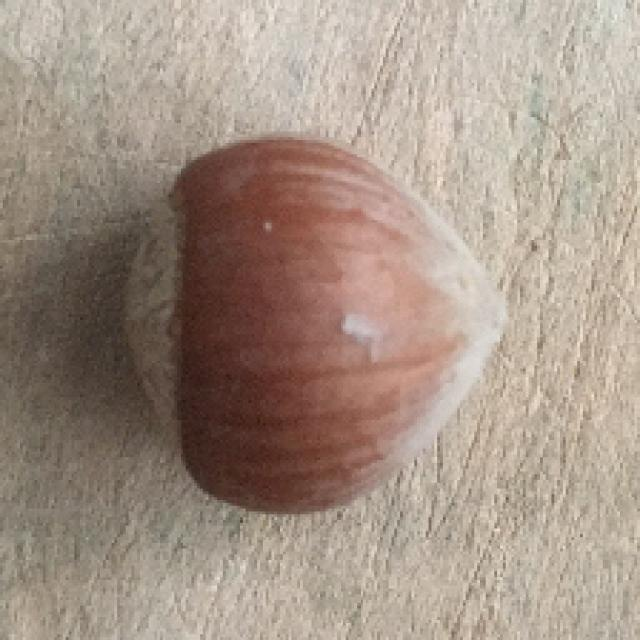qualityHazelnut: (119, 123, 507, 517)
